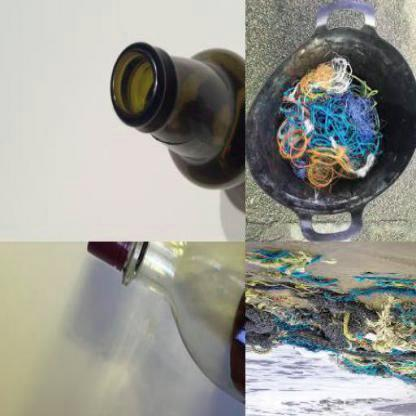Glass: (83, 245, 243, 398), (106, 30, 241, 211)
